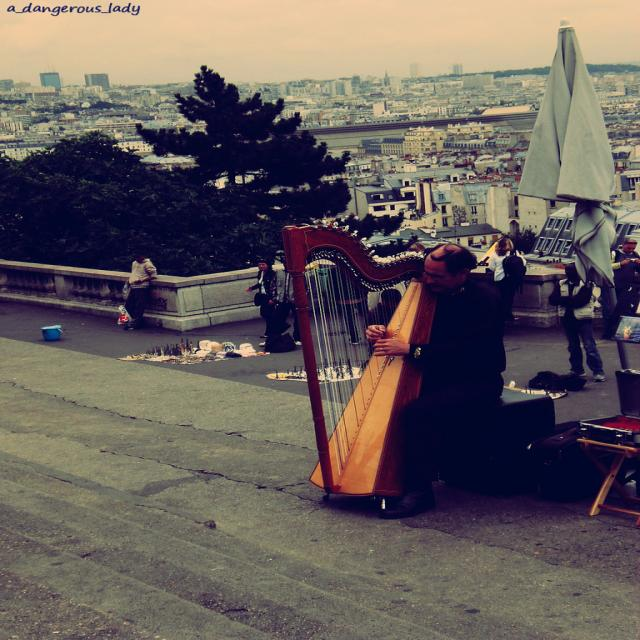harp: (277, 221, 455, 502)
